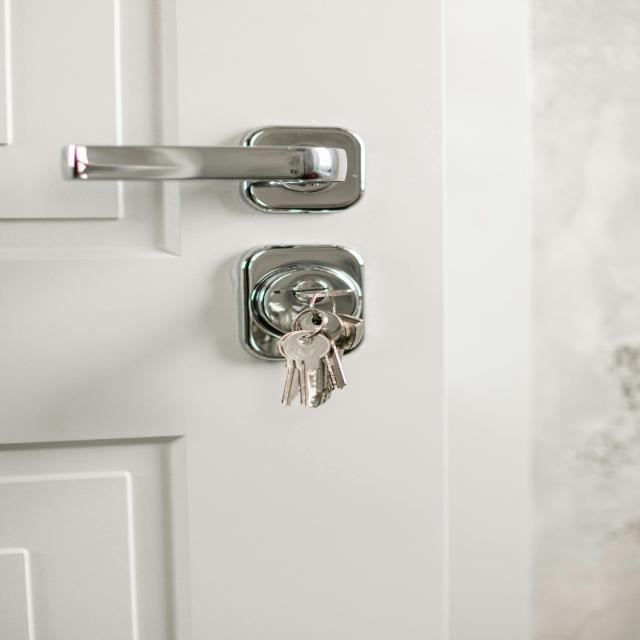door-handle: (68, 126, 364, 212)
